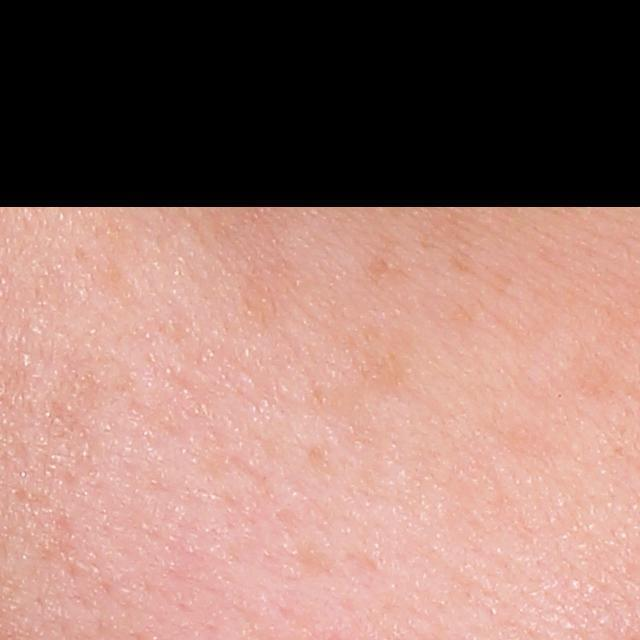melasma: (301, 322, 415, 417), (372, 184, 480, 278), (238, 270, 288, 324), (362, 251, 413, 285)
